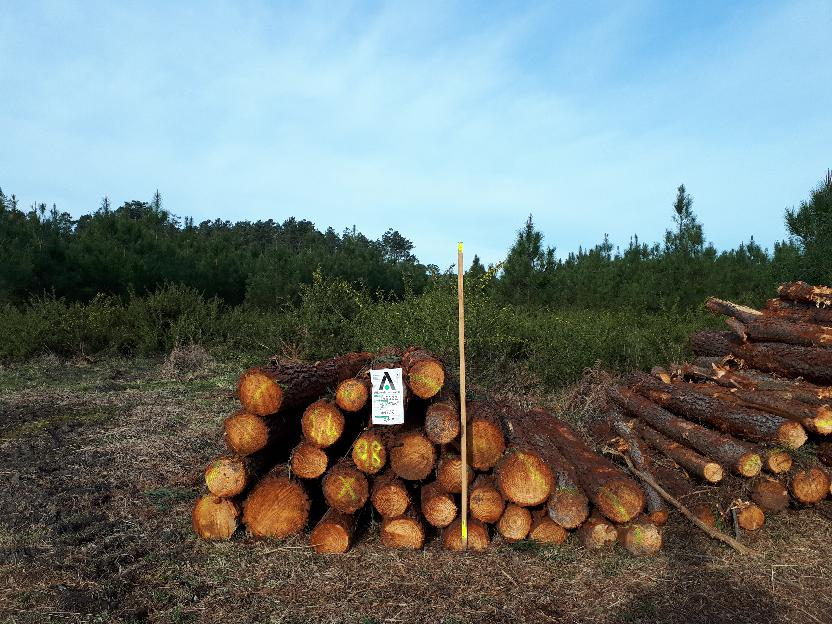etalon: (458, 248, 470, 548)
object: (241, 474, 313, 544), (500, 453, 552, 507), (237, 366, 287, 418), (387, 431, 437, 483), (322, 464, 368, 514), (192, 496, 238, 544), (461, 421, 505, 469), (300, 400, 344, 446), (404, 354, 446, 402), (222, 411, 270, 453), (595, 480, 643, 522), (206, 455, 250, 499), (286, 440, 328, 480), (309, 518, 355, 554), (352, 432, 390, 474), (370, 480, 408, 520), (469, 484, 505, 526), (550, 488, 588, 526), (792, 467, 828, 505), (618, 523, 660, 555), (754, 477, 791, 513), (437, 455, 470, 495), (334, 374, 368, 412), (420, 494, 454, 532), (446, 522, 488, 552), (428, 408, 459, 448), (382, 524, 426, 550), (498, 509, 528, 543), (773, 421, 803, 453), (580, 522, 612, 550), (762, 451, 794, 477), (734, 504, 762, 532), (530, 519, 568, 539), (810, 404, 830, 434), (700, 459, 724, 483), (736, 452, 760, 475)
pile: (162, 355, 666, 559)
